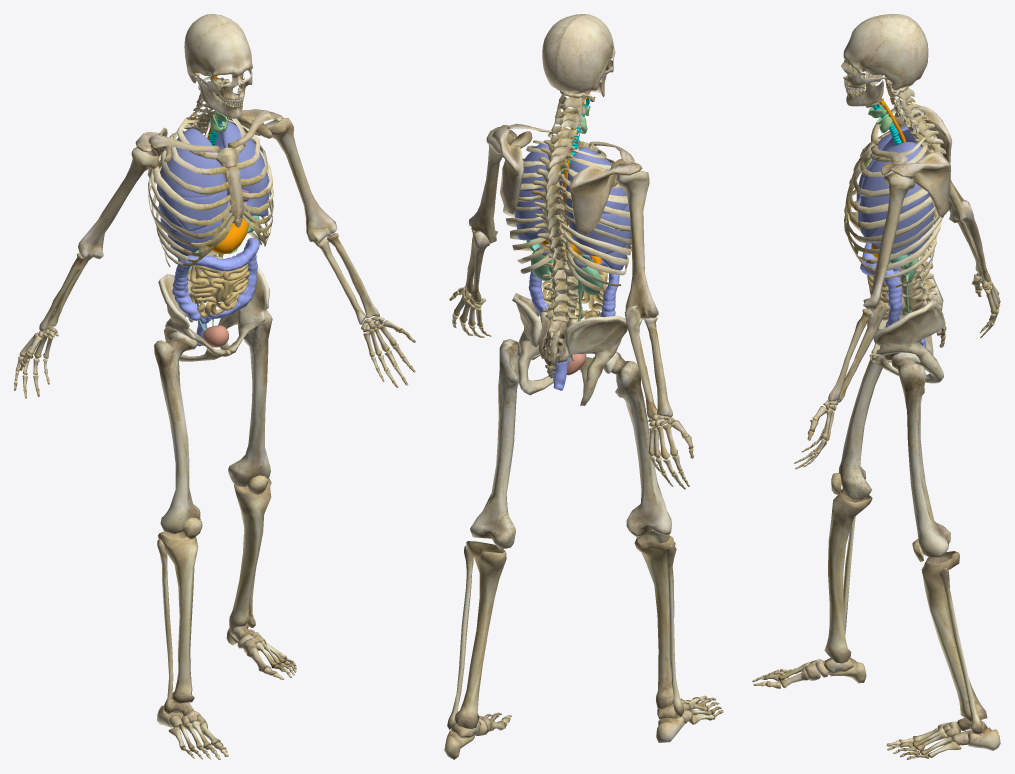
File: anatomy-male.glb
The picture shows the model from 3 angles, left to right: view 1: azimuth 30°, elevation 25°; view 2: azimuth 150°, elevation 25°; view 3: azimuth 270°, elevation 25°; orthographic projection. The views are drawn at different scales.
Visible parts, largest first — view 1: jms_Torso_R native cutaway anatomy, jms_Leg_R native cutaway anatomy, jms_Torso_L native cutaway anatomy, jms_Leg_L native cutaway anatomy, jms_Arm_L native cutaway anatomy, jms_Arm_R native cutaway anatomy, jms_Head_R native cutaway anatomy, jms_Head_L native cutaway anatomy; view 2: jms_Torso_R native cutaway anatomy, jms_Torso_L native cutaway anatomy, jms_Leg_L native cutaway anatomy, jms_Leg_R native cutaway anatomy, jms_Arm_R native cutaway anatomy, jms_Head_R native cutaway anatomy, jms_Arm_L native cutaway anatomy, jms_Head_L native cutaway anatomy; view 3: jms_Torso_L native cutaway anatomy, jms_Leg_L native cutaway anatomy, jms_Leg_R native cutaway anatomy, jms_Head_L native cutaway anatomy, jms_Arm_L native cutaway anatomy, jms_Torso_R native cutaway anatomy, jms_Arm_R native cutaway anatomy, jms_Head_R native cutaway anatomy.
Part boxes in pixels (x1,y1,x2,y2): jms_Torso_R native cutaway anatomy: [135, 102, 248, 361]; jms_Leg_R native cutaway anatomy: [154, 331, 228, 759]; jms_Torso_L native cutaway anatomy: [192, 104, 283, 356]; jms_Leg_L native cutaway anatomy: [226, 309, 296, 679]; jms_Arm_L native cutaway anatomy: [265, 118, 415, 387]; jms_Arm_R native cutaway anatomy: [14, 147, 159, 398]; jms_Head_R native cutaway anatomy: [184, 14, 240, 133]; jms_Head_L native cutaway anatomy: [208, 14, 252, 131]; jms_Torso_R native cutaway anatomy: [546, 128, 642, 406]; jms_Torso_L native cutaway anatomy: [491, 123, 596, 395]; jms_Leg_L native cutaway anatomy: [444, 339, 539, 759]; jms_Leg_R native cutaway anatomy: [603, 351, 723, 742]; jms_Arm_R native cutaway anatomy: [616, 170, 693, 489]; jms_Head_R native cutaway anatomy: [557, 14, 615, 136]; jms_Arm_L native cutaway anatomy: [449, 127, 516, 337]; jms_Head_L native cutaway anatomy: [542, 14, 599, 129]; jms_Torso_L native cutaway anatomy: [844, 115, 950, 383]; jms_Leg_L native cutaway anatomy: [886, 352, 1000, 759]; jms_Leg_R native cutaway anatomy: [752, 359, 882, 688]; jms_Head_L native cutaway anatomy: [841, 16, 928, 133]; jms_Arm_L native cutaway anatomy: [794, 172, 915, 469]; jms_Torso_R native cutaway anatomy: [844, 105, 952, 362]; jms_Arm_R native cutaway anatomy: [894, 112, 1000, 338]; jms_Head_R native cutaway anatomy: [842, 14, 927, 126].
Size of the model in its own units: 87.46 by 180 by 58.08.
Materials: 56 (16 with a texture image).
